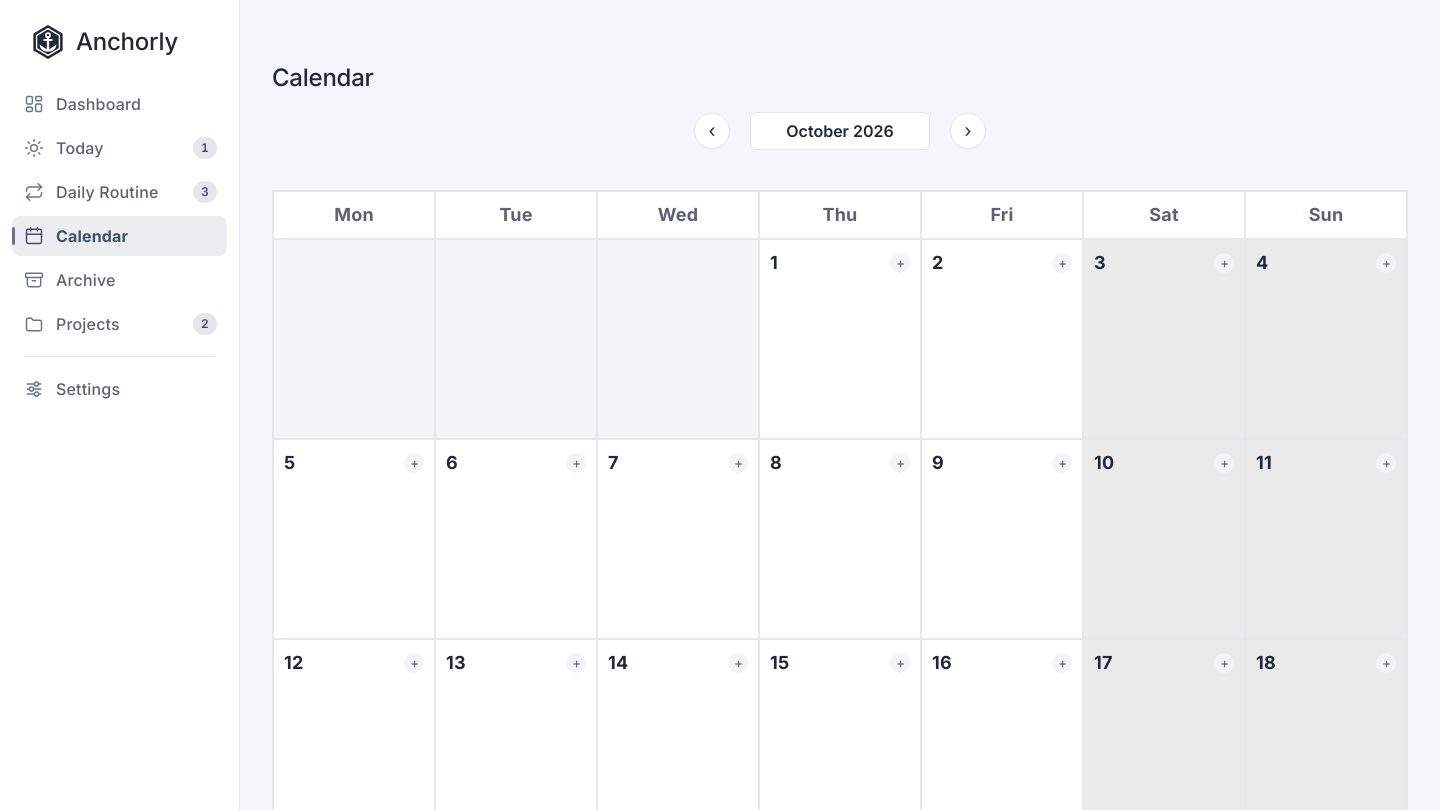
calendar quick add › labels the quick add title input
The image size is (1440, 810).
Click the button named "Add task to this day": (900, 264) x1=890 y1=254 x2=910 y2=274
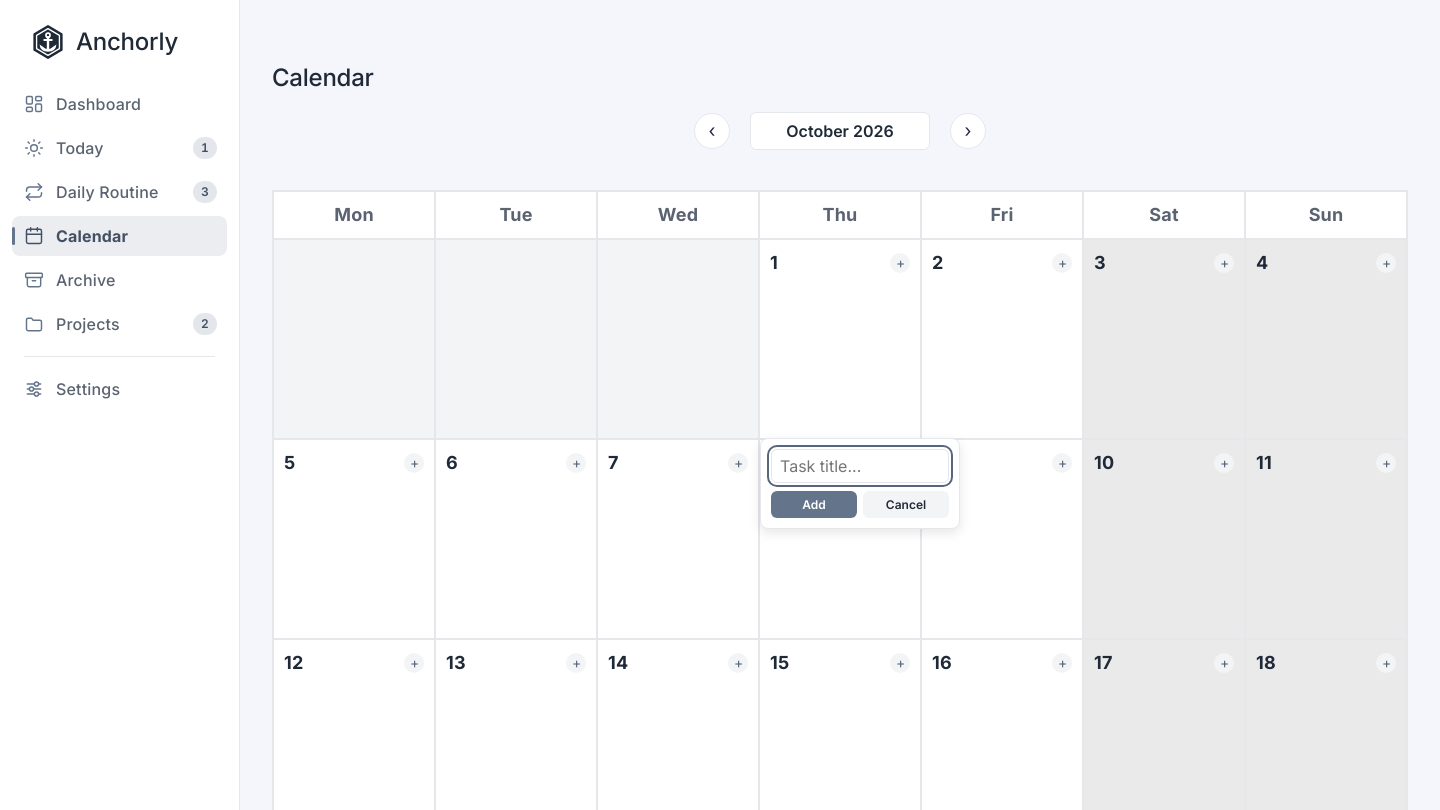
expect the field labelled "Task title" is shown: met, box x1=771 y1=449 x2=949 y2=483
